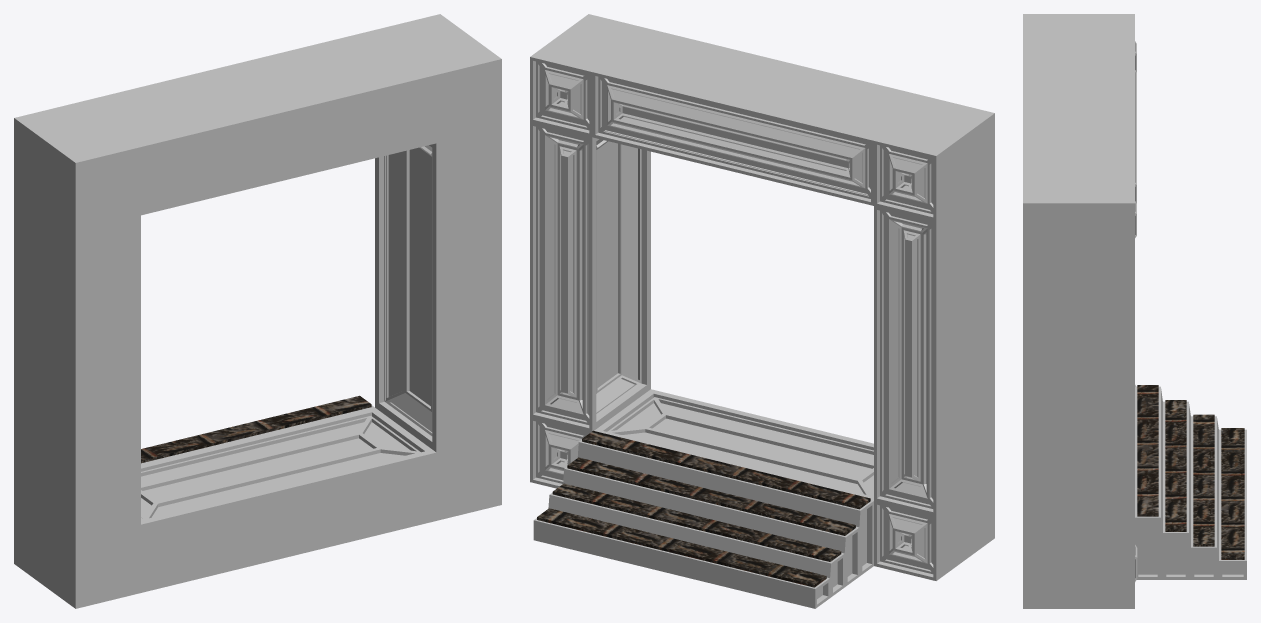
Rendered from TEMP_EndPiece.fbx.
3 renders of one model, left to right at view 1: azimuth 30°, elevation 25°; view 2: azimuth 150°, elevation 25°; view 3: azimuth 270°, elevation 25°, orthographic. The views are drawn at different scales.
Visible parts, largest first — view 1: End_Temp; view 2: End_Temp; view 3: End_Temp.
Part boxes in pixels (x1,y1,x2,y2): End_Temp: (14,14,501,608); End_Temp: (530,14,994,608); End_Temp: (1023,14,1246,608).
Size of the model in its own units: 400 by 400 by 200.
